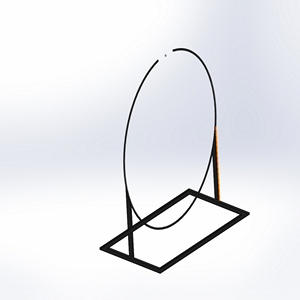circle: (97, 45, 251, 274)
